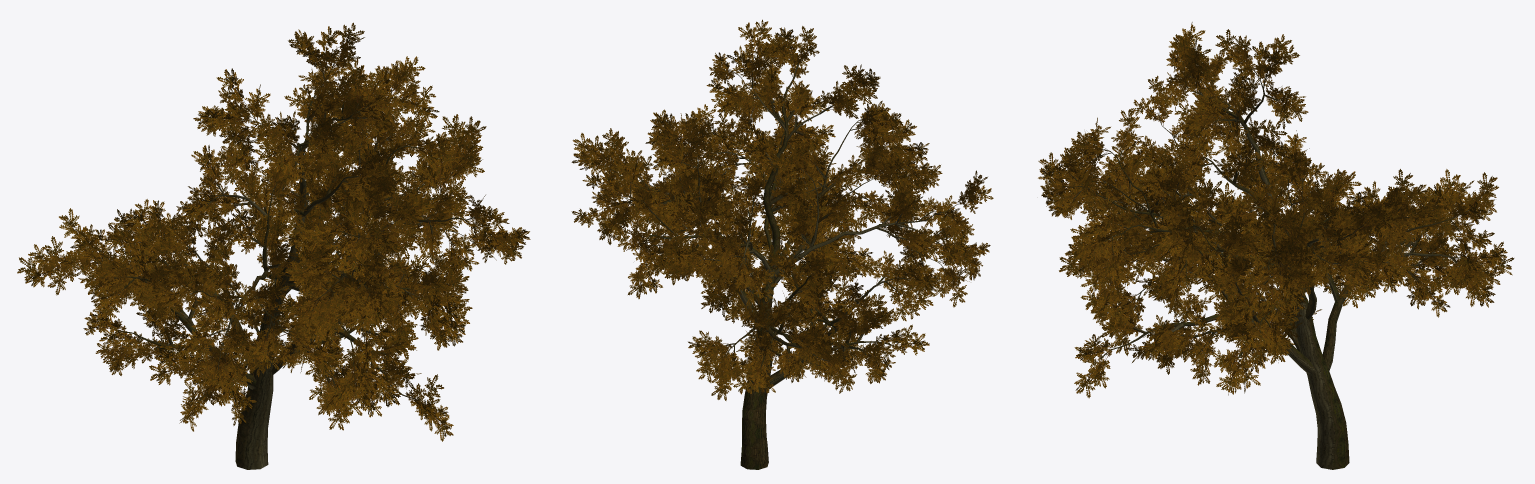
Rendered from prop_tree_oak_02.glb.
3 renders of one model, left to right at view 1: azimuth 30°, elevation 25°; view 2: azimuth 150°, elevation 25°; view 3: azimuth 270°, elevation 25°, orthographic. The views are drawn at different scales.
Visible parts, largest first — view 1: Tree; view 2: Tree; view 3: Tree.
Part boxes in pixels (box(x1,y1,x2,y2)): Tree: box(17, 22, 530, 469); Tree: box(571, 19, 993, 469); Tree: box(1038, 22, 1514, 469).
Bounding box in the file's own units: 83.53 × 92.73 × 89.67.
2 materials, 2 textured.
